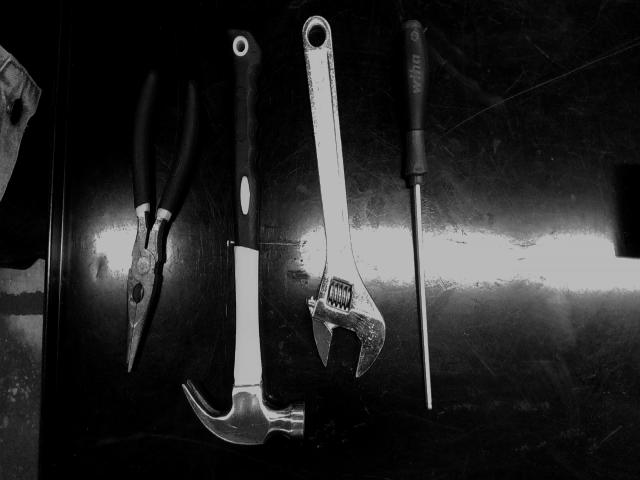Adjustable spanner: (302, 15, 385, 377)
Hammer: (182, 30, 305, 445)
Needle-nose pliers: (126, 70, 200, 371)
Screwdriver: (396, 20, 432, 410)
